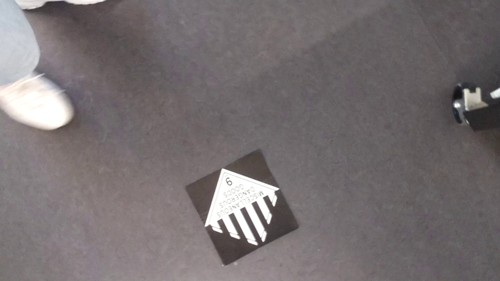misgoods: (196, 166, 288, 251)
